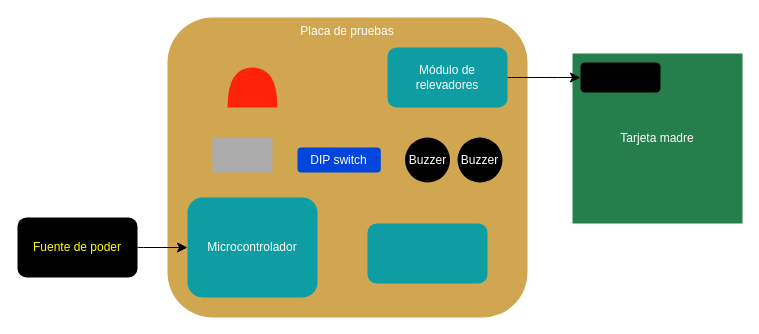
The diagram is 759 pixels wide and 334 high, and some of its shapes have lost their labels. Here are the shapes that lost their labels. From the top down, the centre of each, then its label:
the point at 252,87: LED
the point at 620,77: Pines de encendido
the point at 242,154: Botón de pulso
the point at 427,253: Reloj de precisión en tiempo real
